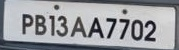character: (86, 17, 104, 38), (70, 16, 87, 38), (130, 19, 143, 40), (21, 12, 33, 34), (34, 13, 46, 35), (118, 18, 130, 40), (144, 20, 156, 42), (105, 17, 117, 38), (56, 15, 67, 36), (48, 13, 56, 36)
